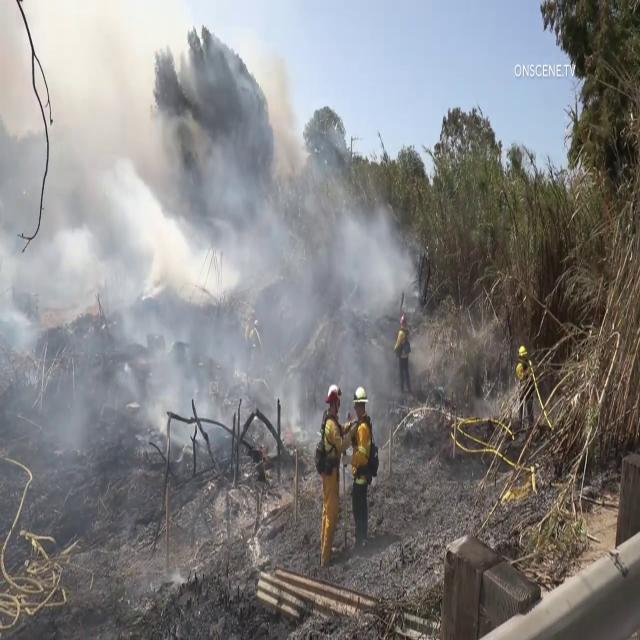Smoke: (0, 1, 418, 452)
